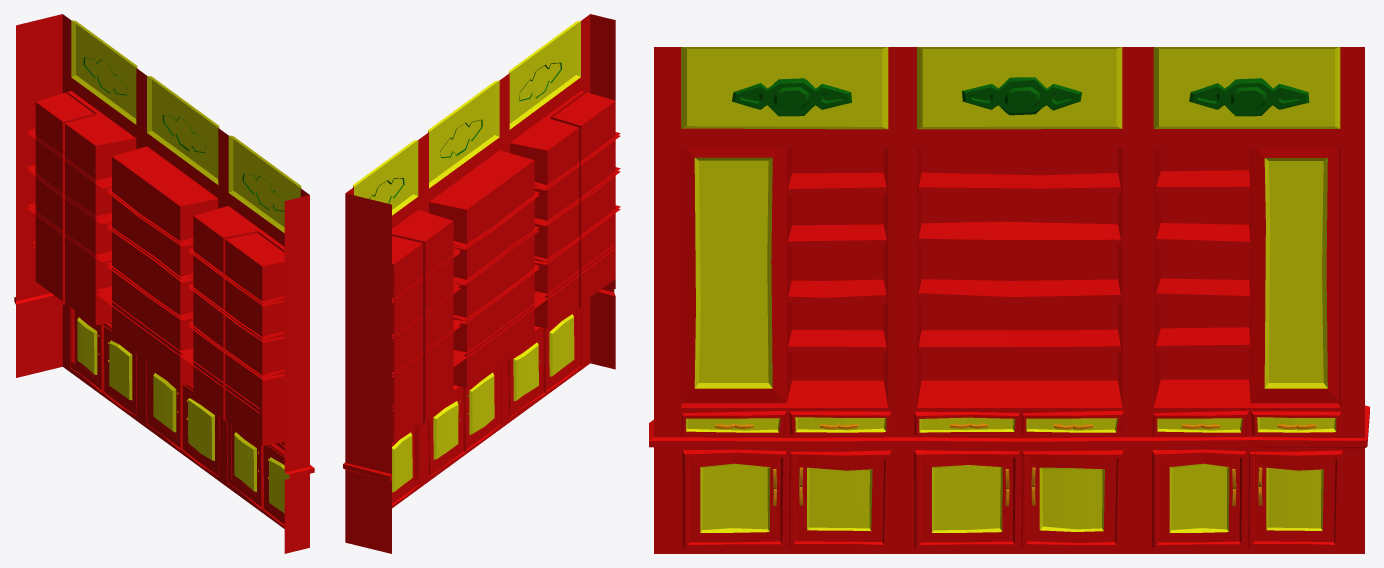
Rendered from LR_Bookshelf_2.fbx.
The picture shows the model from 3 angles, left to right: view 1: azimuth 30°, elevation 25°; view 2: azimuth 150°, elevation 25°; view 3: azimuth 270°, elevation 25°; orthographic projection. The views are drawn at different scales.
Parts seen in each view (by area): view 1: LR_Bookshelf_2; view 2: LR_Bookshelf_2; view 3: LR_Bookshelf_2.
Part boxes in pixels (left/top/right/bottom): LR_Bookshelf_2: left=14, top=14, right=314, bottom=553; LR_Bookshelf_2: left=343, top=14, right=620, bottom=553; LR_Bookshelf_2: left=649, top=47, right=1369, bottom=553.
Size of the model in its own units: 67.69 by 422 by 544.
